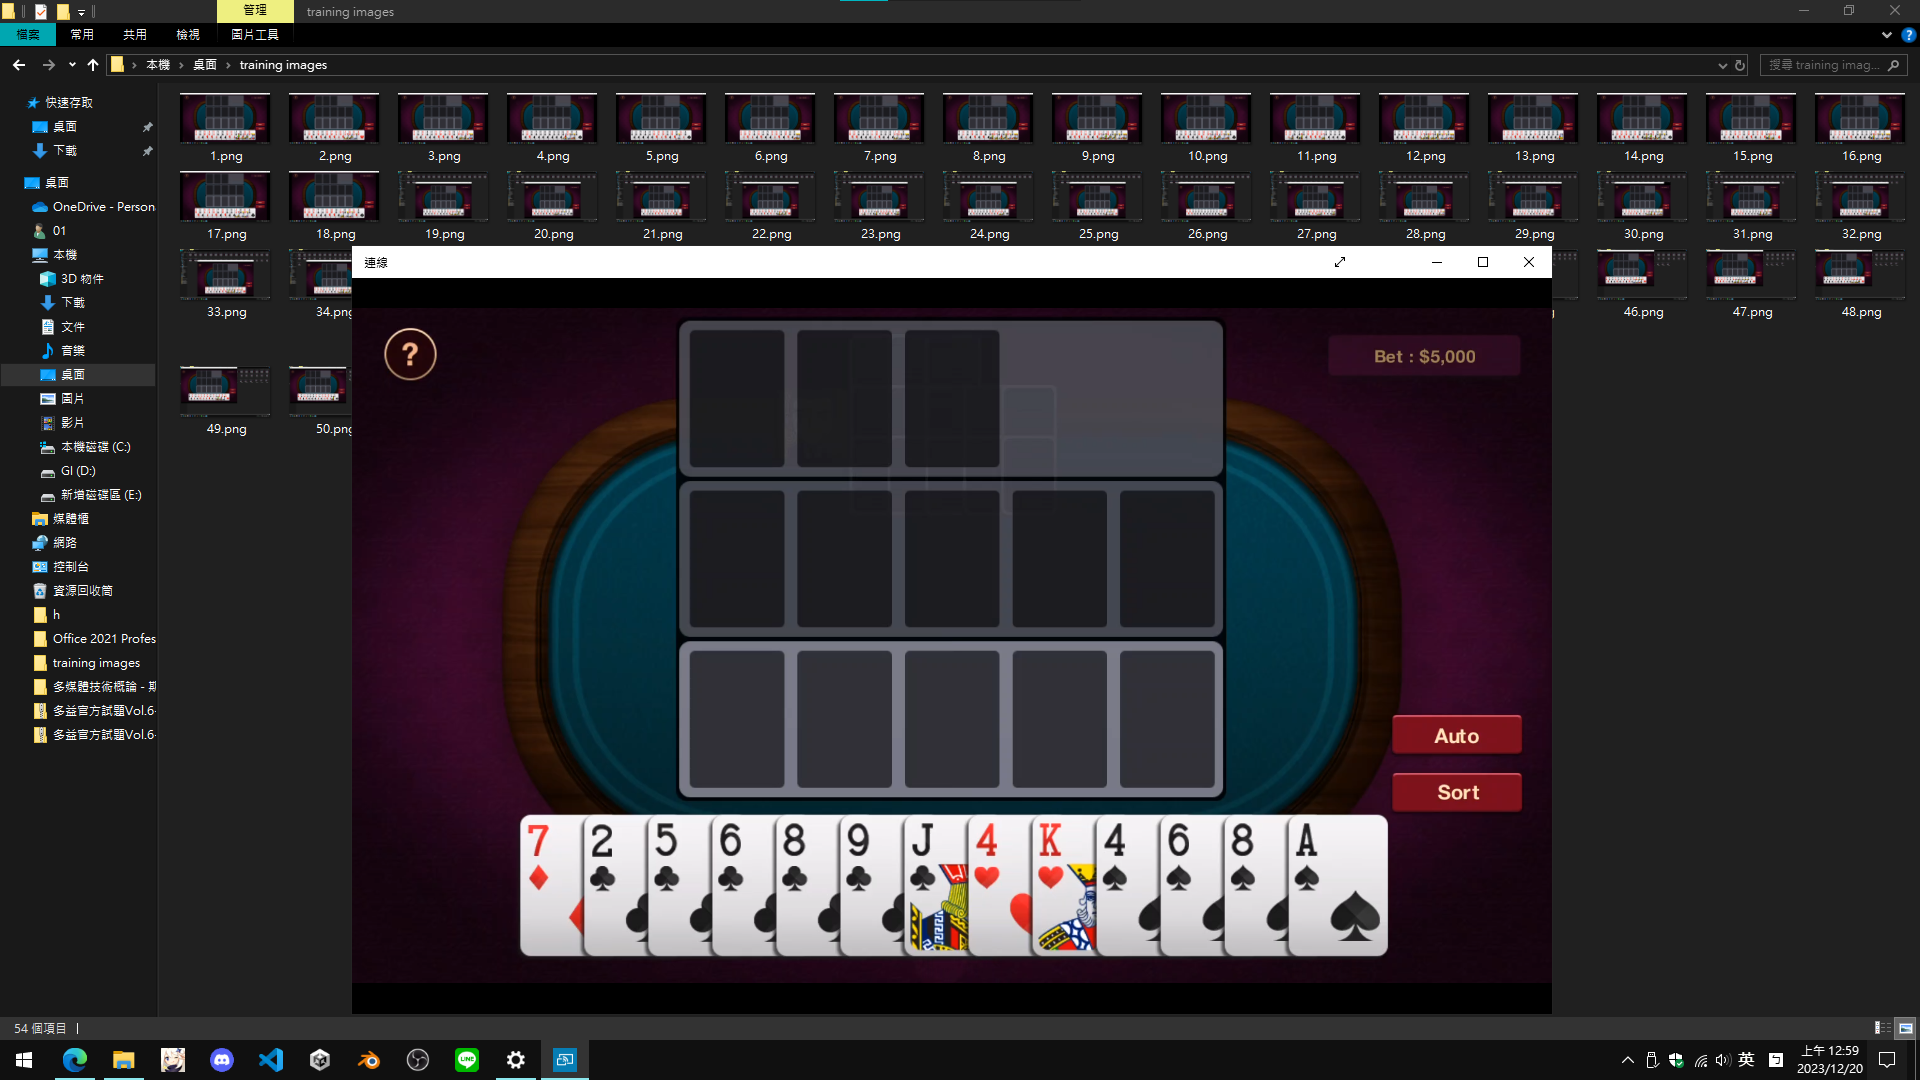2C: (588, 822, 617, 895)
4H: (973, 819, 1005, 891)
4S: (1101, 820, 1131, 894)
5C: (653, 819, 682, 894)
6C: (716, 819, 745, 897)
6S: (1166, 820, 1195, 898)
7D: (524, 822, 553, 893)
8C: (781, 820, 811, 895)
8S: (1228, 819, 1258, 897)
9C: (844, 820, 876, 897)
AS: (1294, 819, 1321, 893)
JC: (909, 819, 936, 895)
KH: (1038, 820, 1065, 893)
